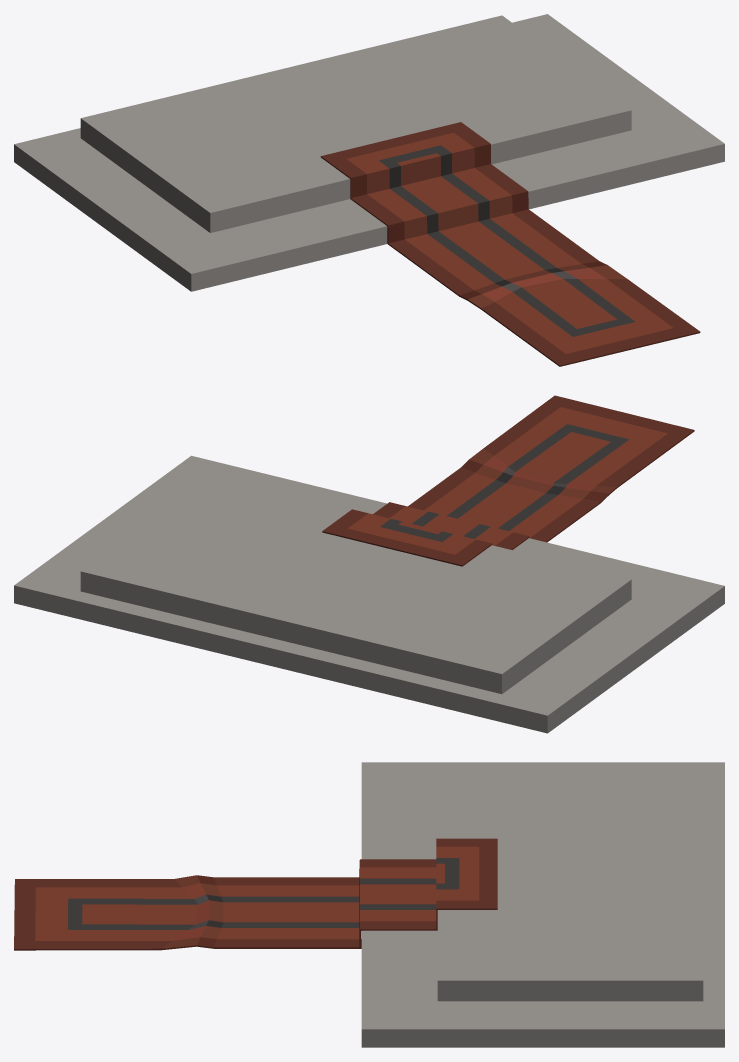
Rendered from SM_Env_ThronePlatform_02.glb.
3 views of the same model, one above another, from view 1: azimuth 30°, elevation 25°; view 2: azimuth 150°, elevation 25°; view 3: azimuth 270°, elevation 25° (orthographic). The views are drawn at different scales.
Visible parts, largest first — view 1: SM_Env_ThronePlatform_02; view 2: SM_Env_ThronePlatform_02; view 3: SM_Env_ThronePlatform_02.
Boxes of the visible parts, box(x1,y1,x2,y2) form: SM_Env_ThronePlatform_02: box(14, 14, 724, 366); SM_Env_ThronePlatform_02: box(14, 395, 724, 733); SM_Env_ThronePlatform_02: box(14, 762, 724, 1047).
Size of the model in its own units: 0.1 by 0.00701 by 0.1126.
Materials: 1 (1 with a texture image).
